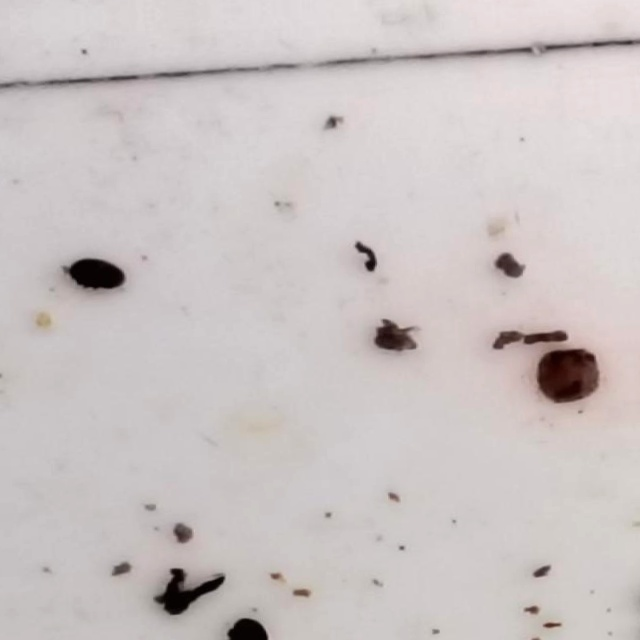varroa: (67, 257, 133, 296)
